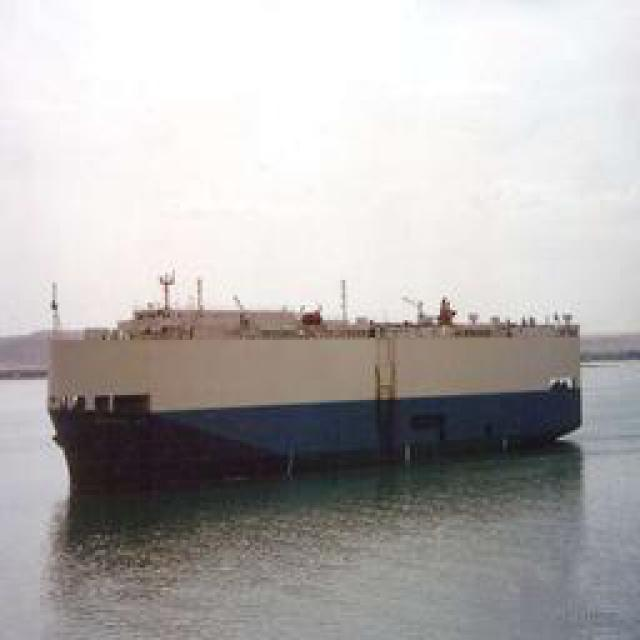Ship: (52, 262, 582, 498)
